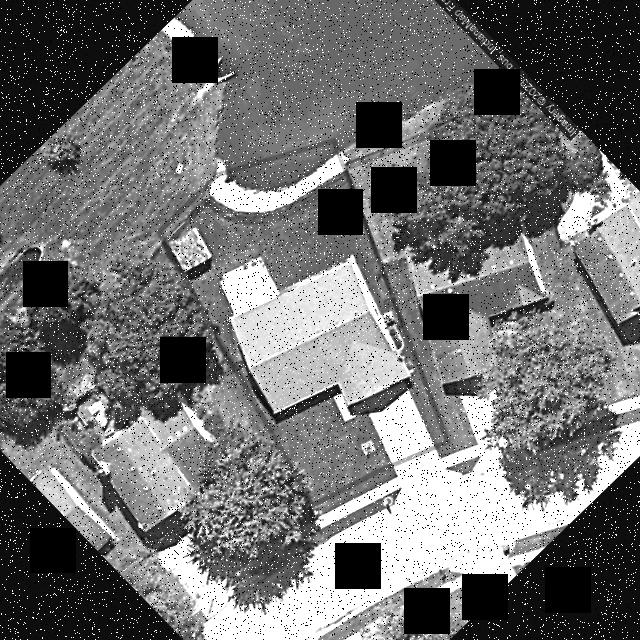Driveway: (363, 379, 433, 462)
Extra Driveway: (394, 449, 462, 503)
Extra Lawn: (311, 466, 397, 515), (321, 496, 386, 538), (435, 442, 454, 458), (445, 462, 463, 474), (388, 487, 401, 500)
Extra Sidewalk: (316, 476, 401, 526), (440, 452, 458, 468)
House: (230, 256, 409, 413)
Other: (226, 143, 336, 192), (221, 257, 277, 315), (169, 226, 211, 270), (361, 439, 376, 456), (381, 494, 394, 509), (382, 310, 394, 324)
Sidewalk: (210, 155, 342, 210), (277, 384, 367, 421)
